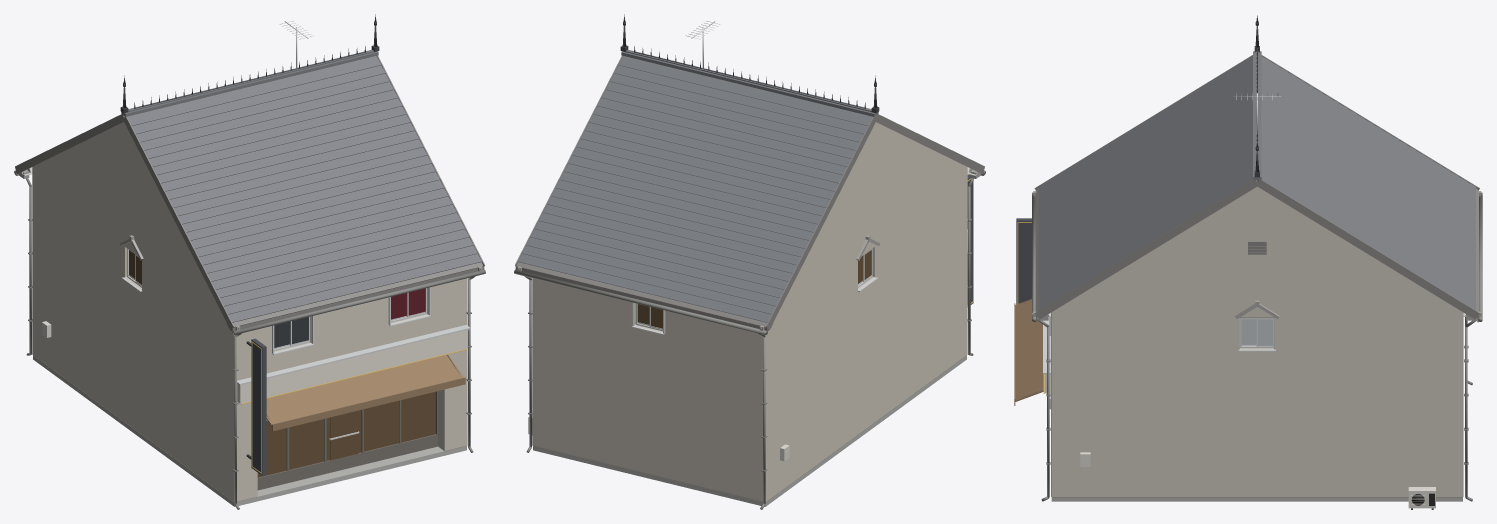
File: blk_clinic.glb
The picture shows the model from 3 angles, left to right: view 1: azimuth 30°, elevation 25°; view 2: azimuth 150°, elevation 25°; view 3: azimuth 270°, elevation 25°; orthographic projection.
Visible parts, largest first — view 1: blk_clinic; view 2: blk_clinic; view 3: blk_clinic.
Boxes of the visible parts, <box> form: blk_clinic: <box>14,14,485,509</box>; blk_clinic: <box>514,14,985,509</box>; blk_clinic: <box>1014,15,1482,509</box>.
Size of the model in its own units: 8.99 by 12 by 13.64.
